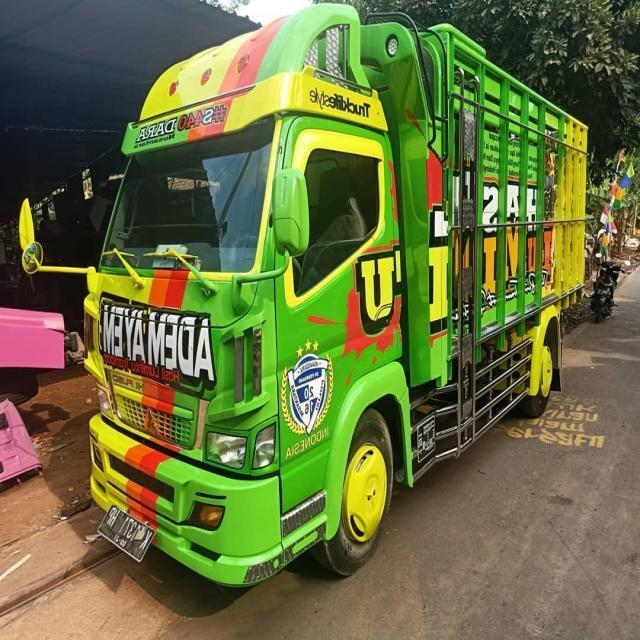truck: (19, 2, 588, 591)
